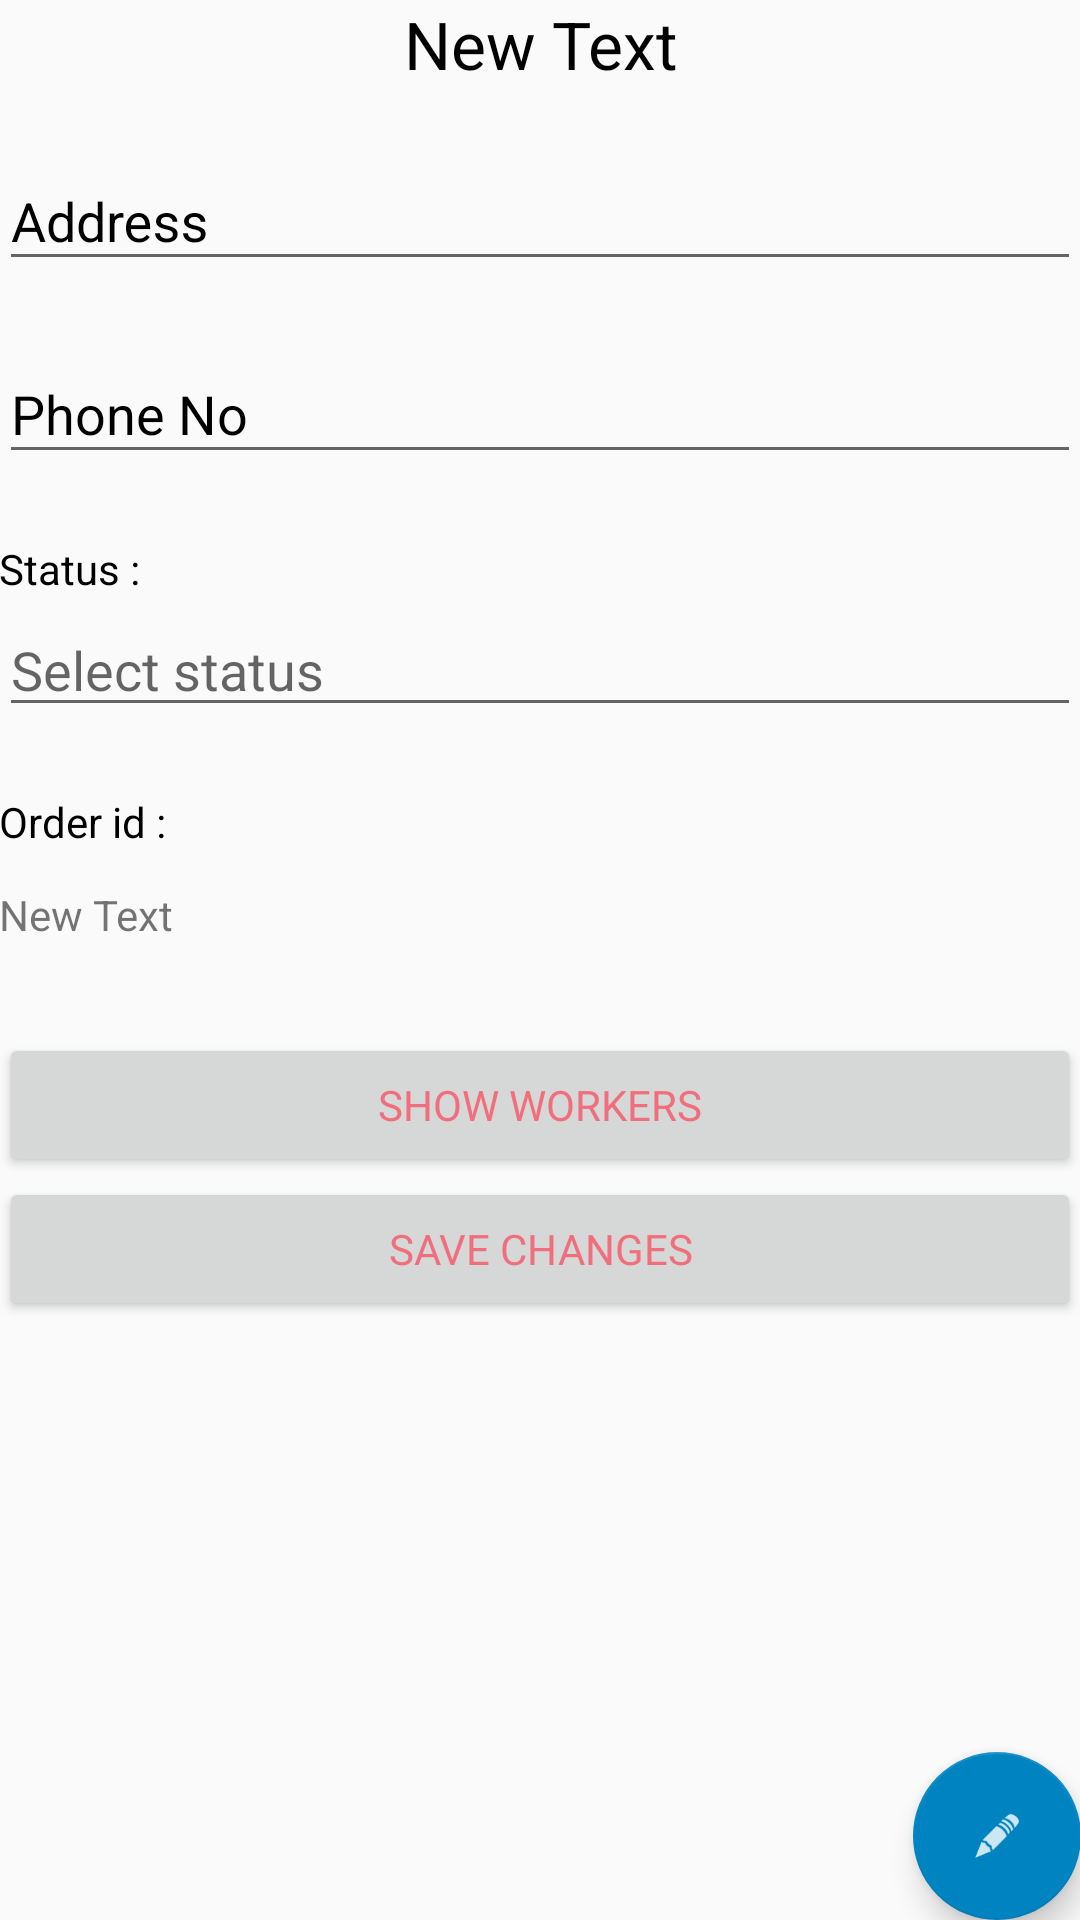

Where icons sit on this 1080 x 1920 app screen, as (x1, y1, x2, y2):
edit: (913, 1752, 1080, 1920)
